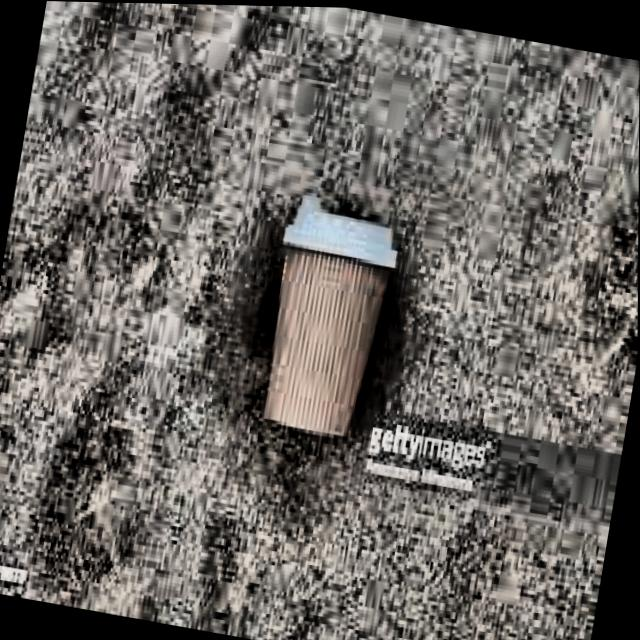Cup: (240, 214, 404, 472)
